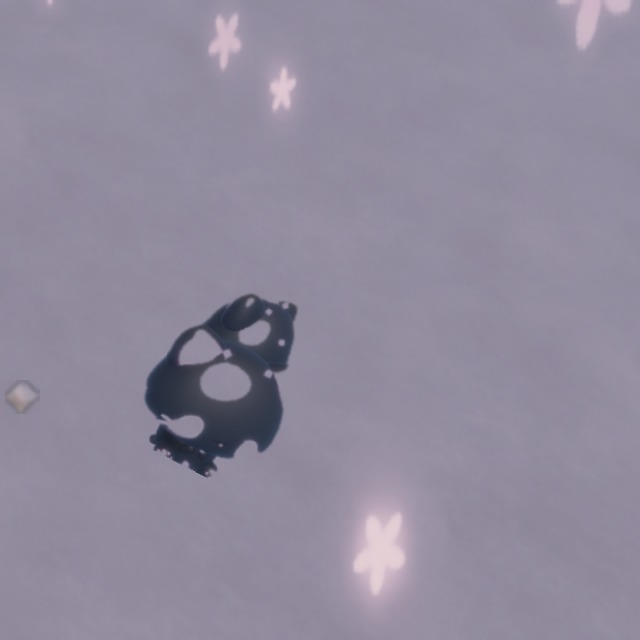urso_branco: (5, 380, 40, 414)
urso_preto: (113, 245, 353, 504)
